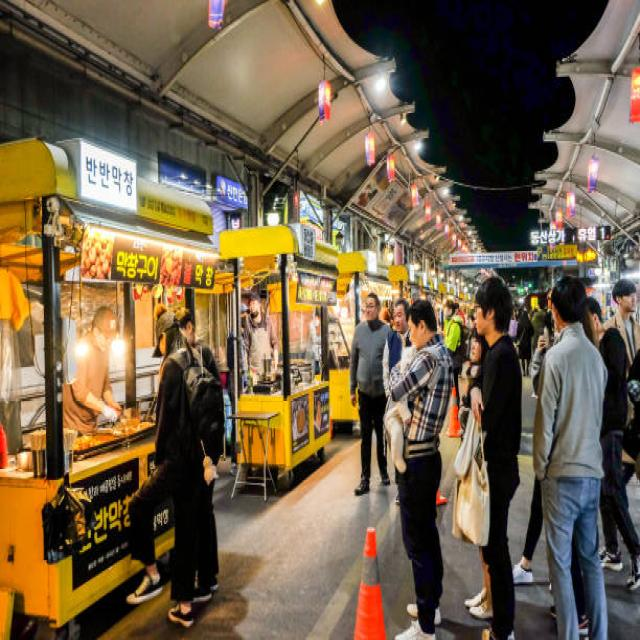Emperan: (0, 126, 224, 640), (213, 218, 344, 514)
